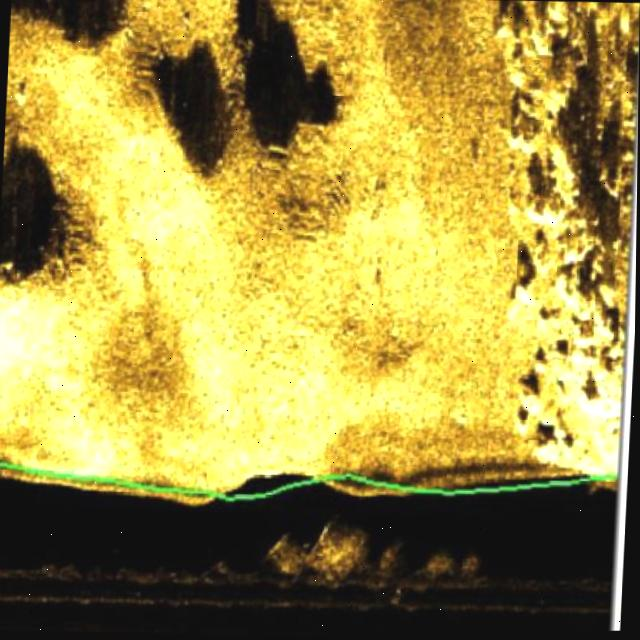bedrock group: (477, 0, 640, 482)
